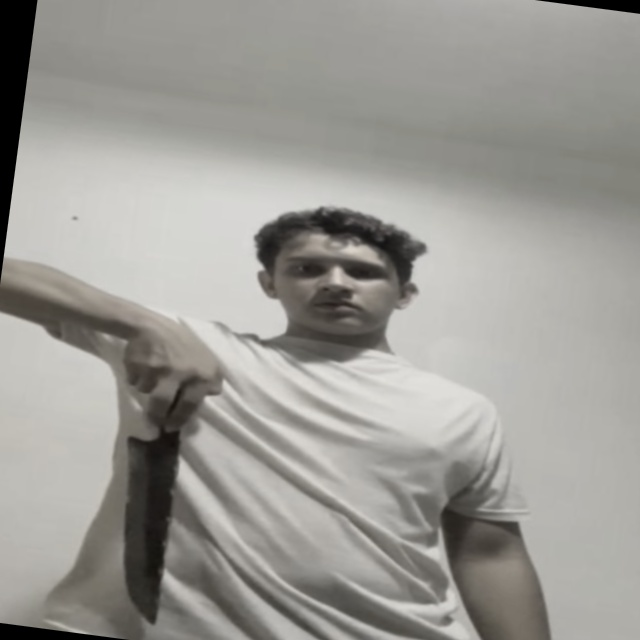Sharp-Object: (101, 429, 189, 628)
